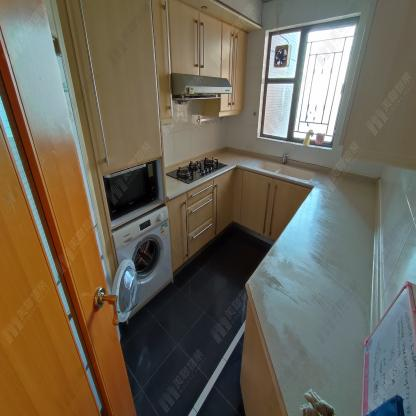Cupboard: (67, 1, 249, 177), (171, 167, 311, 271)
Exhaust Hood: (167, 72, 233, 102)
Oven: (104, 162, 161, 222)
Stove: (169, 156, 229, 188)
